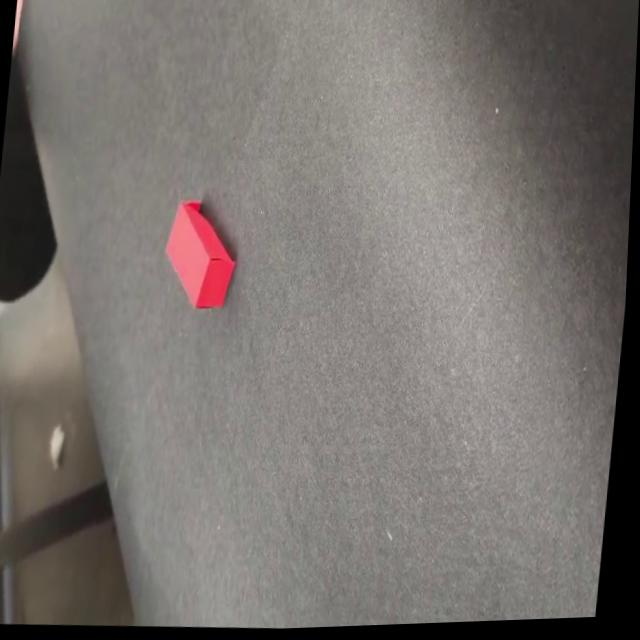red block: (157, 198, 240, 314)
